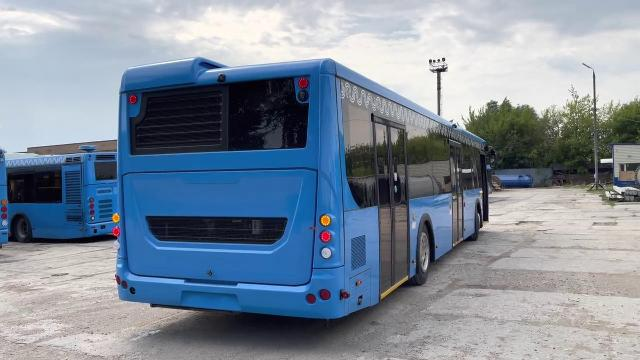bus: (113, 53, 499, 324), (2, 148, 119, 243)
